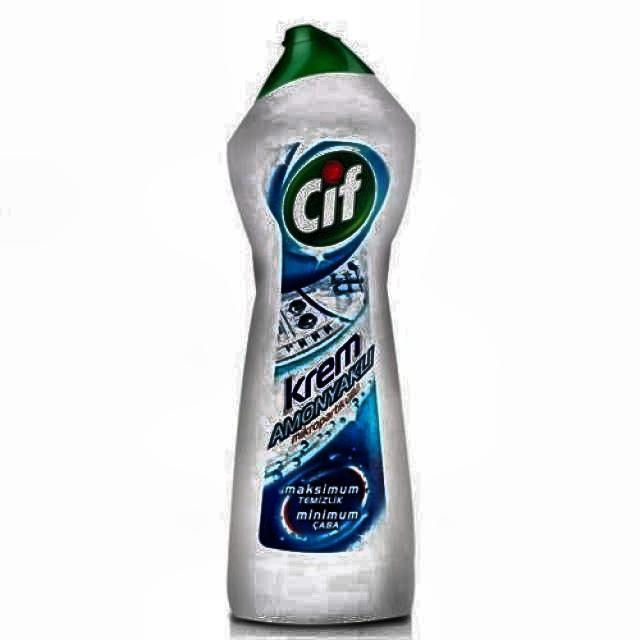plastic: (226, 24, 417, 631)
